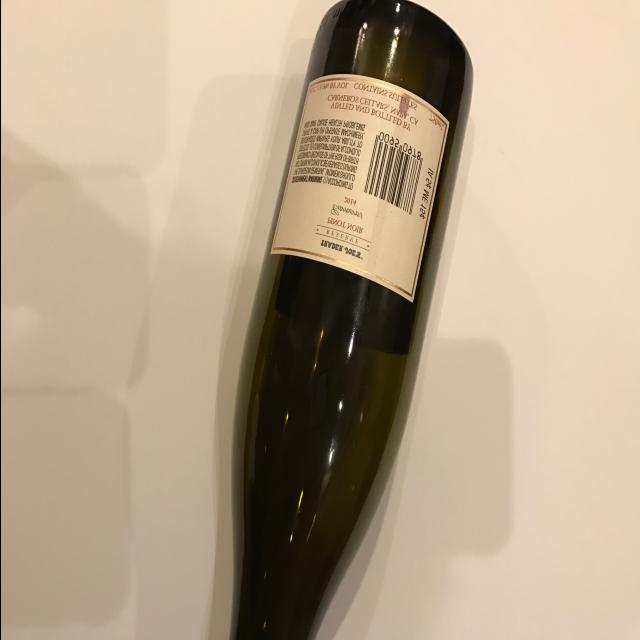glass: (226, 0, 475, 636)
